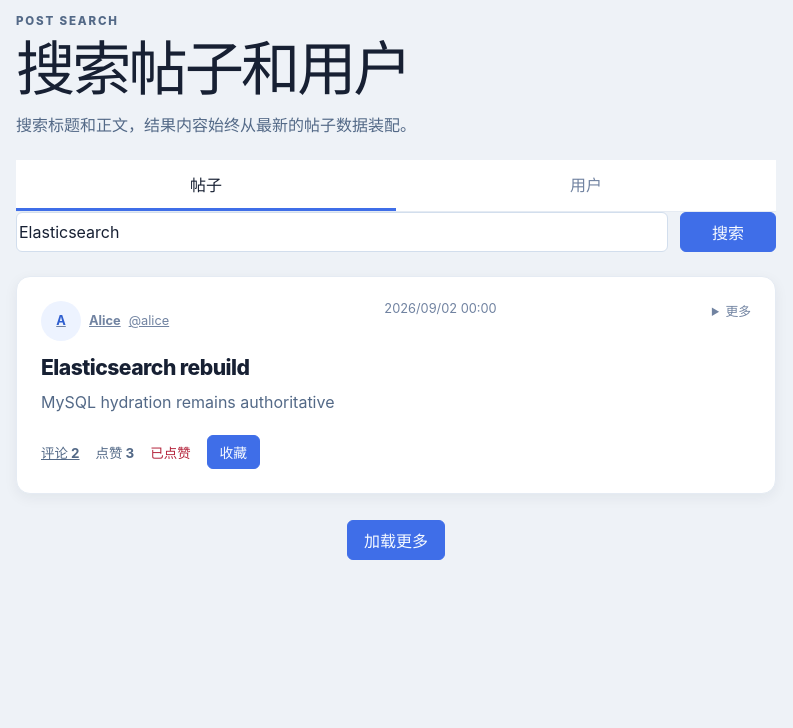
SearchView pagination recovery › retries a temporary load-more failure with the same cursor and appends results
This screenshot has width=793, height=728.
Click the button "加载更多" at (396, 540), box [347,520,445,560]
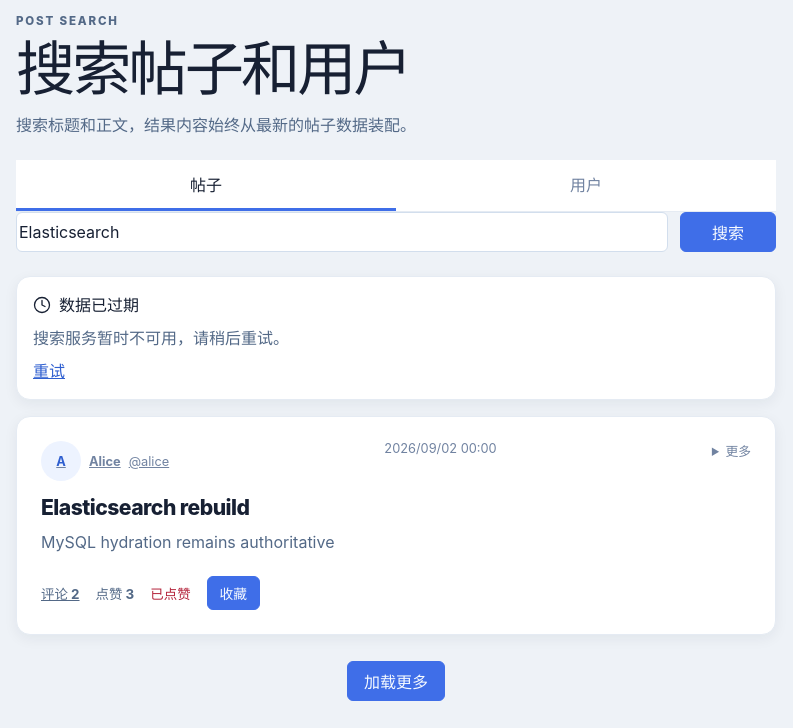
Expected: the text "Elasticsearch rebuild" is shown, [41,495,249,520]
Expected: the text "搜索服务暂时不可用" is shown, [33,328,289,348]
Click the button with class "inline-action" at (49, 371), box [33,358,65,383]
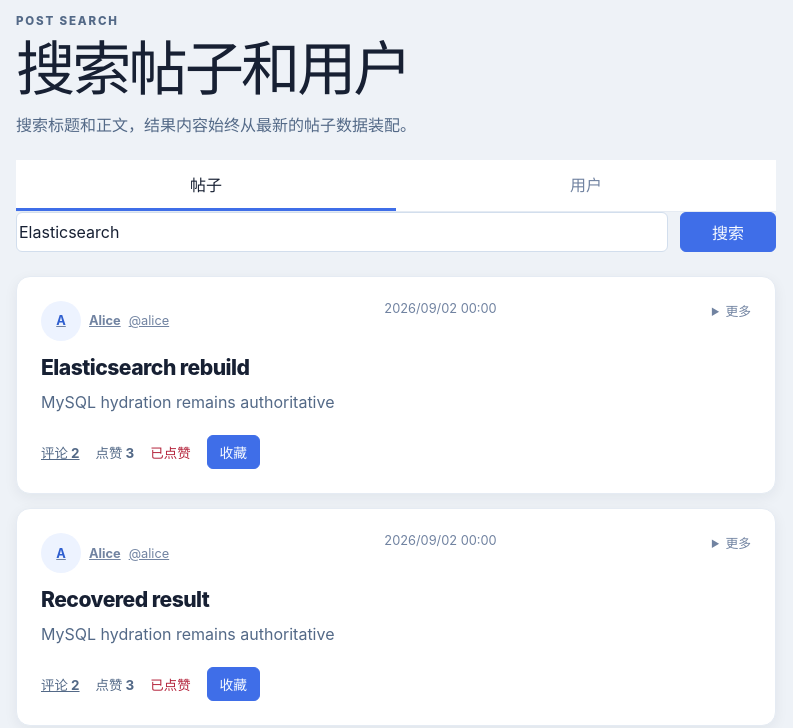
Expected: the text "Elasticsearch rebuild" is shown, [41,355,249,380]
Expected: the text "Recovered result" is shown, [41,587,209,612]
